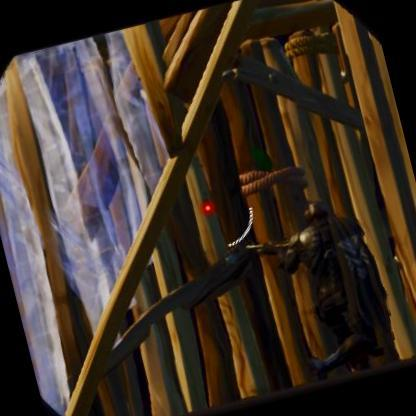person: (274, 203, 376, 360)
